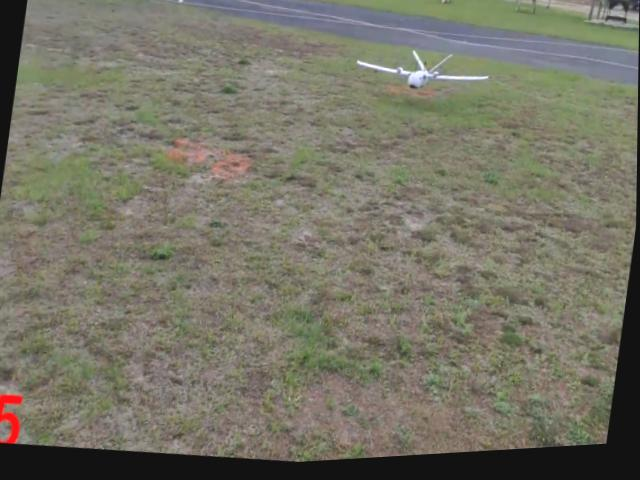plane: (353, 46, 495, 105)
